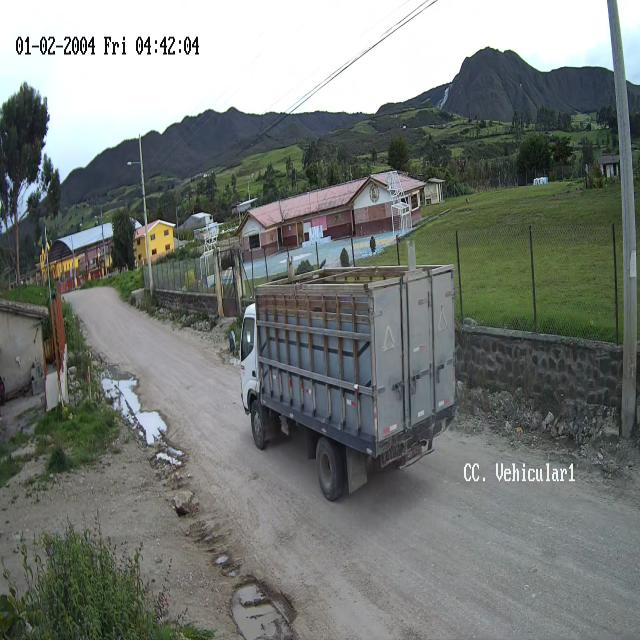TRUCK: (241, 265, 458, 504)
